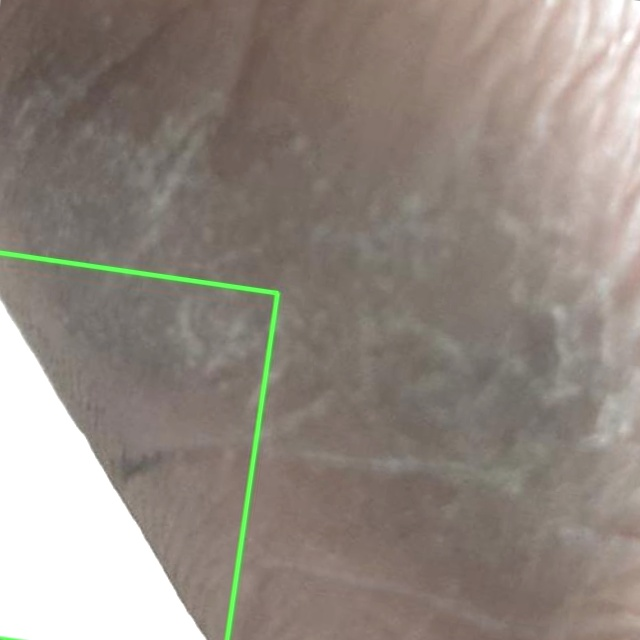Eczema: (0, 252, 277, 639)
